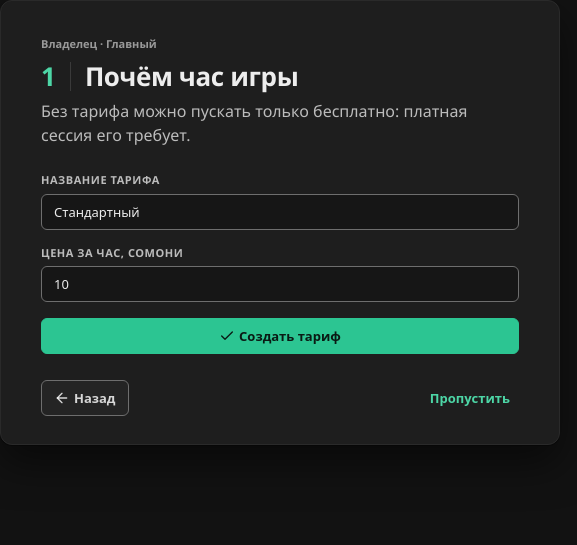
it: TariffScreen › explains a failure instead of pretending the tariff exists
Step 1. Click the button "Создать тариф" → (280, 336), box [41, 318, 519, 354]
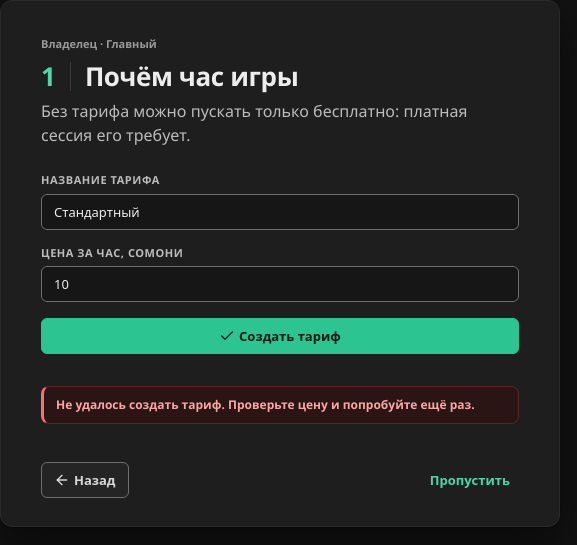
Expected: the text "Не удалось создать тариф. Проверьте цену и попробуйте ещё раз." is shown, [41, 386, 519, 424]
